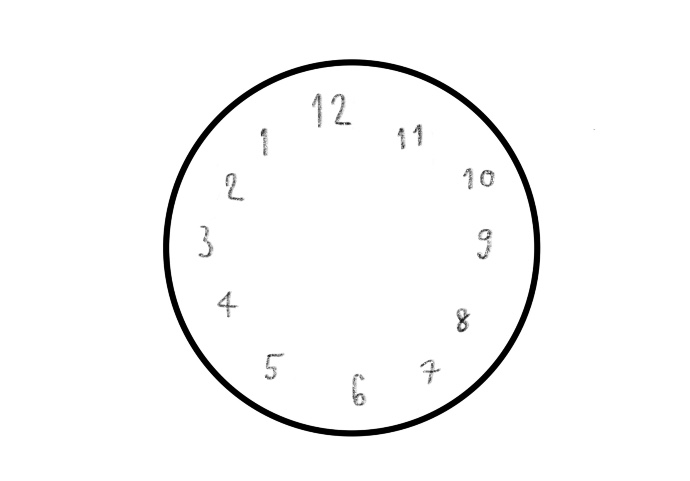eight: (451, 298, 472, 342)
eleven: (389, 121, 432, 154)
five: (259, 347, 288, 380)
four: (213, 287, 239, 320)
nine: (471, 225, 497, 266)
one: (256, 125, 271, 159)
seven: (418, 355, 446, 392)
six: (346, 362, 371, 410)
ten: (462, 163, 497, 198)
three: (195, 219, 216, 266)
twelve: (309, 89, 354, 131)
two: (225, 172, 246, 202)
